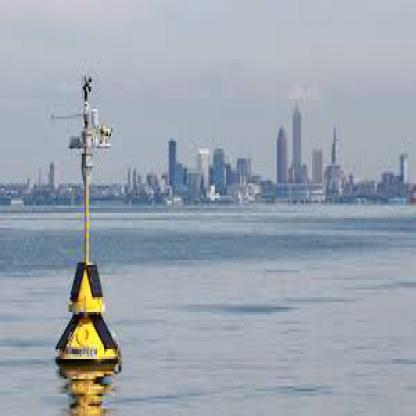buoy: (58, 72, 121, 376)
